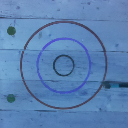Axe Tip: (101, 82, 114, 84)
